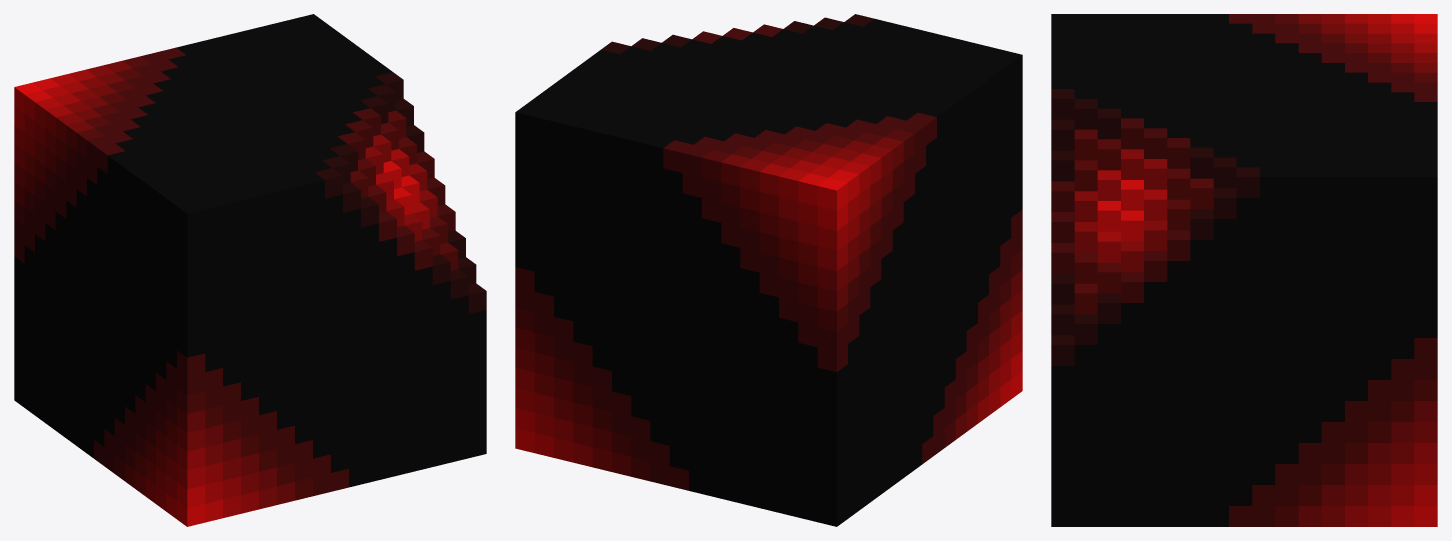
The picture shows the model from 3 angles, left to right: view 1: azimuth 30°, elevation 25°; view 2: azimuth 150°, elevation 25°; view 3: azimuth 270°, elevation 25°; orthographic projection. The views are drawn at different scales.
Visible parts, largest first — view 1: backup; view 2: backup; view 3: backup.
Part boxes in pixels (<box>): backup: <box>14,14,486,526</box>; backup: <box>515,14,1022,526</box>; backup: <box>1051,14,1437,526</box>.
Bounding box in the file's own units: 120 × 120 × 120.
Materials: 1 (1 with a texture image).
